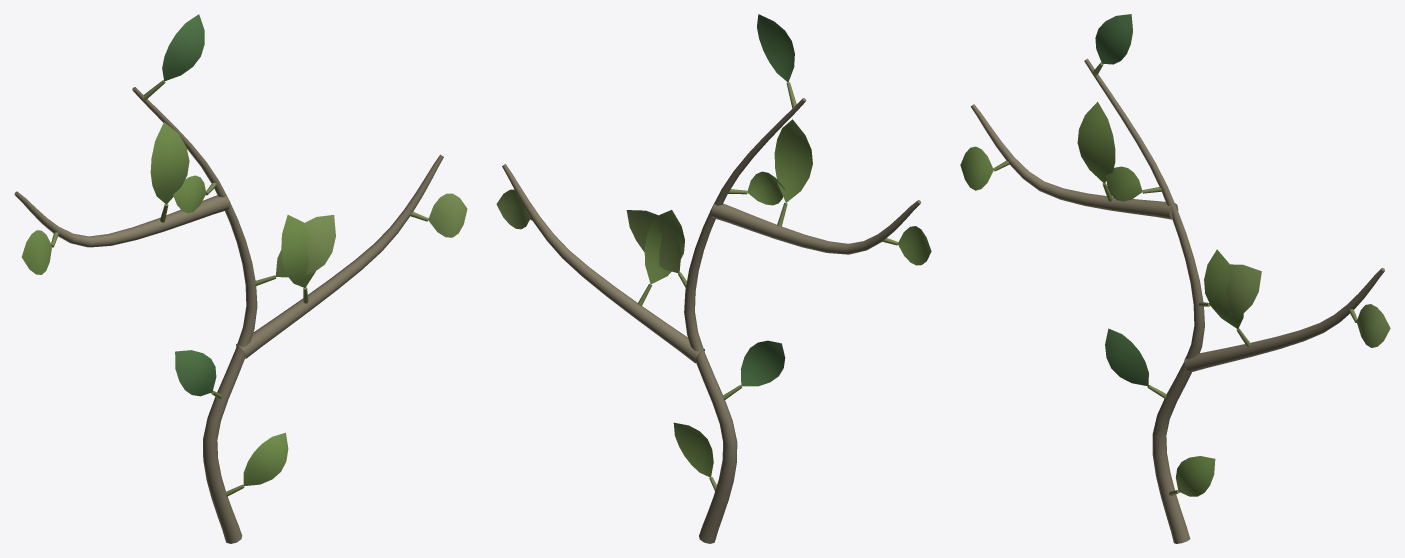
Rendered from 032_woody_spreading_wall_vine.glb.
3 views of the same model, side by side, from view 1: azimuth 30°, elevation 25°; view 2: azimuth 150°, elevation 25°; view 3: azimuth 330°, elevation 25° (orthographic). The views are drawn at different scales.
Visible parts, largest first — view 1: VIN-032_laminae_0, VIN-032_parent_stem, VIN-032_branch_1, VIN-032_laminae_2, VIN-032_laminae_1, VIN-032_branch_2; view 2: VIN-032_laminae_0, VIN-032_parent_stem, VIN-032_branch_1, VIN-032_laminae_2, VIN-032_branch_2, VIN-032_laminae_1; view 3: VIN-032_laminae_0, VIN-032_parent_stem, VIN-032_laminae_2, VIN-032_branch_2, VIN-032_branch_1, VIN-032_laminae_1.
Part boxes in pixels (<box>): VIN-032_laminae_0: <box>162,14,335,485</box>; VIN-032_parent_stem: <box>132,87,257,543</box>; VIN-032_branch_1: <box>236,154,443,358</box>; VIN-032_laminae_2: <box>21,122,189,274</box>; VIN-032_laminae_1: <box>281,193,467,287</box>; VIN-032_branch_2: <box>14,191,229,247</box>; VIN-032_laminae_0: <box>626,14,794,477</box>; VIN-032_parent_stem: <box>684,98,806,543</box>; VIN-032_branch_1: <box>502,164,704,363</box>; VIN-032_laminae_2: <box>774,119,931,265</box>; VIN-032_branch_2: <box>711,200,921,254</box>; VIN-032_laminae_1: <box>496,189,684,284</box>; VIN-032_laminae_0: <box>1095,14,1261,496</box>; VIN-032_parent_stem: <box>1084,58,1204,543</box>; VIN-032_laminae_2: <box>960,101,1115,190</box>; VIN-032_branch_2: <box>970,104,1178,219</box>; VIN-032_branch_1: <box>1184,268,1384,372</box>; VIN-032_laminae_1: <box>1204,249,1390,347</box>.
Size of the model in its own units: 2.46 by 2.87 by 0.1805.
